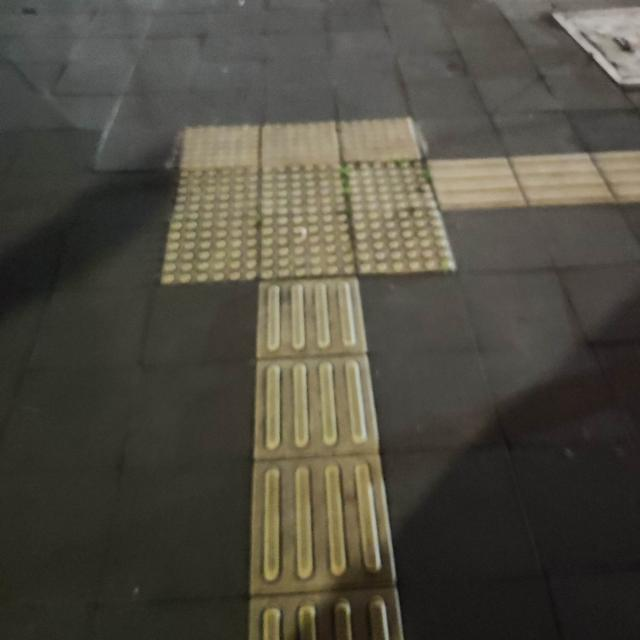kanan: (210, 114, 617, 334)
